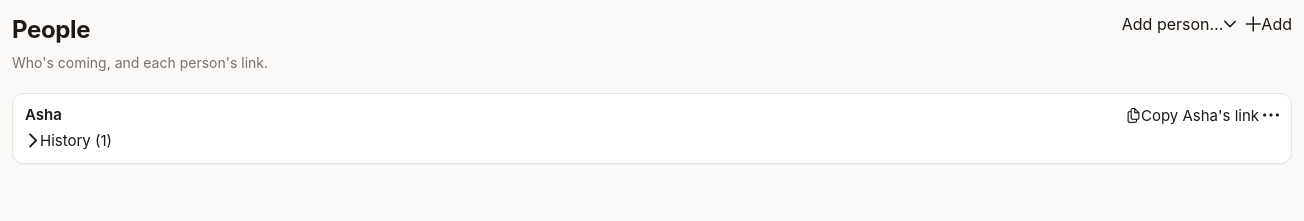
Test case: TripPeopleView — archived trip is read-only › live trip keeps its people and link controls
This screenshot has width=1304, height=221.
Click the button with class "history-toggle": (68, 140) [25,130,112,150]
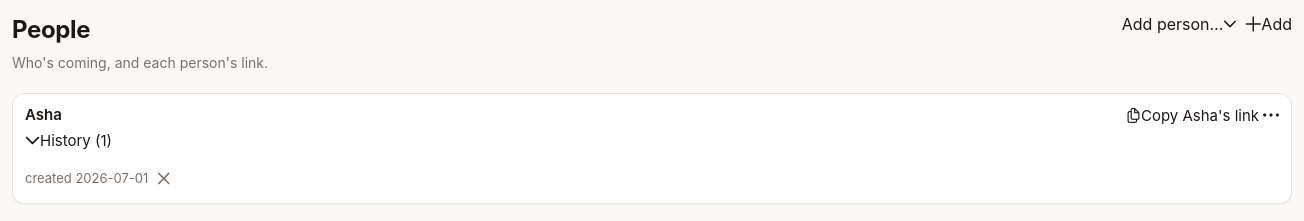
Expected: the button named "Revoke link for Asha" is shown, [156,169,171,188]
